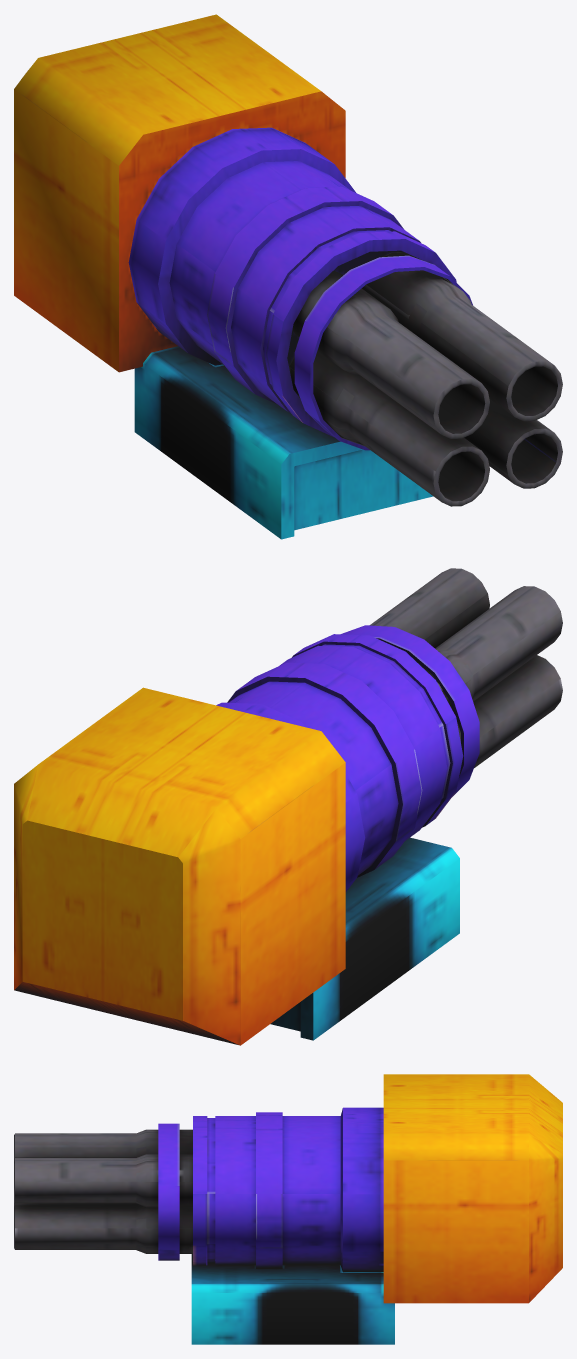
The model's file is PlayerC__.obj.
The picture shows the model from 3 angles, top to bottom: view 1: azimuth 30°, elevation 25°; view 2: azimuth 150°, elevation 25°; view 3: azimuth 270°, elevation 25°; orthographic projection. The views are drawn at different scales.
Visible parts, largest first — view 1: Object013; view 2: Object013; view 3: Object013.
Boxes of the visible parts, x1,y1,x2,y2 form: Object013: (14, 14, 562, 539); Object013: (14, 568, 562, 1045); Object013: (14, 1074, 562, 1344).
Size of the model in its own units: 27.76 by 35.5 by 84.04.
Materials: 1 (1 with a texture image).
